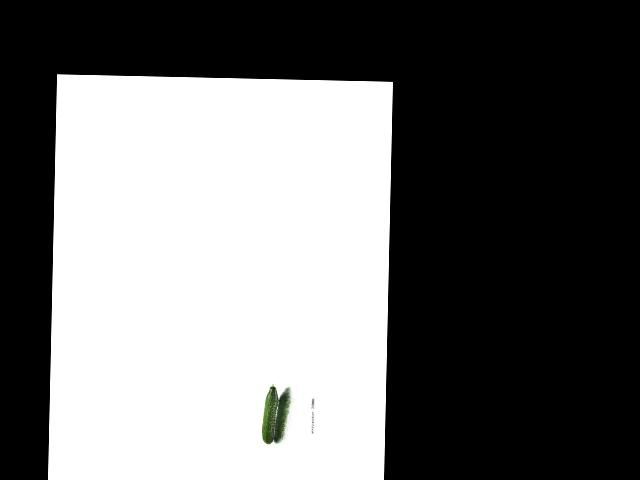cucumber: (261, 384, 279, 443)
